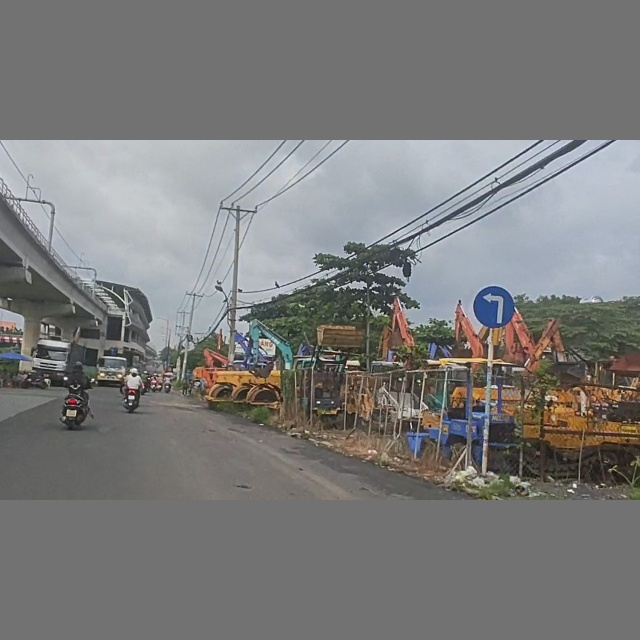R.301e: (473, 286, 515, 331)
